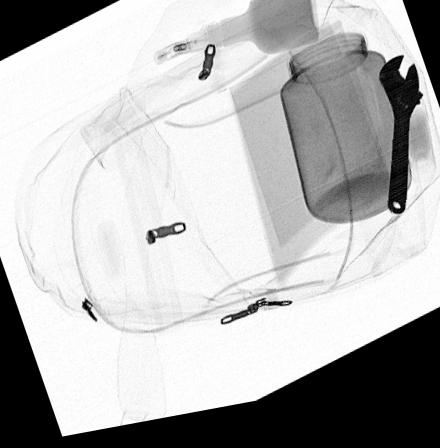Wrench: (377, 68, 424, 232)
